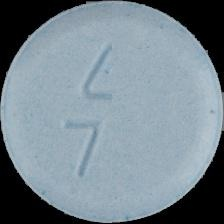67544-106: (0, 0, 224, 224)
